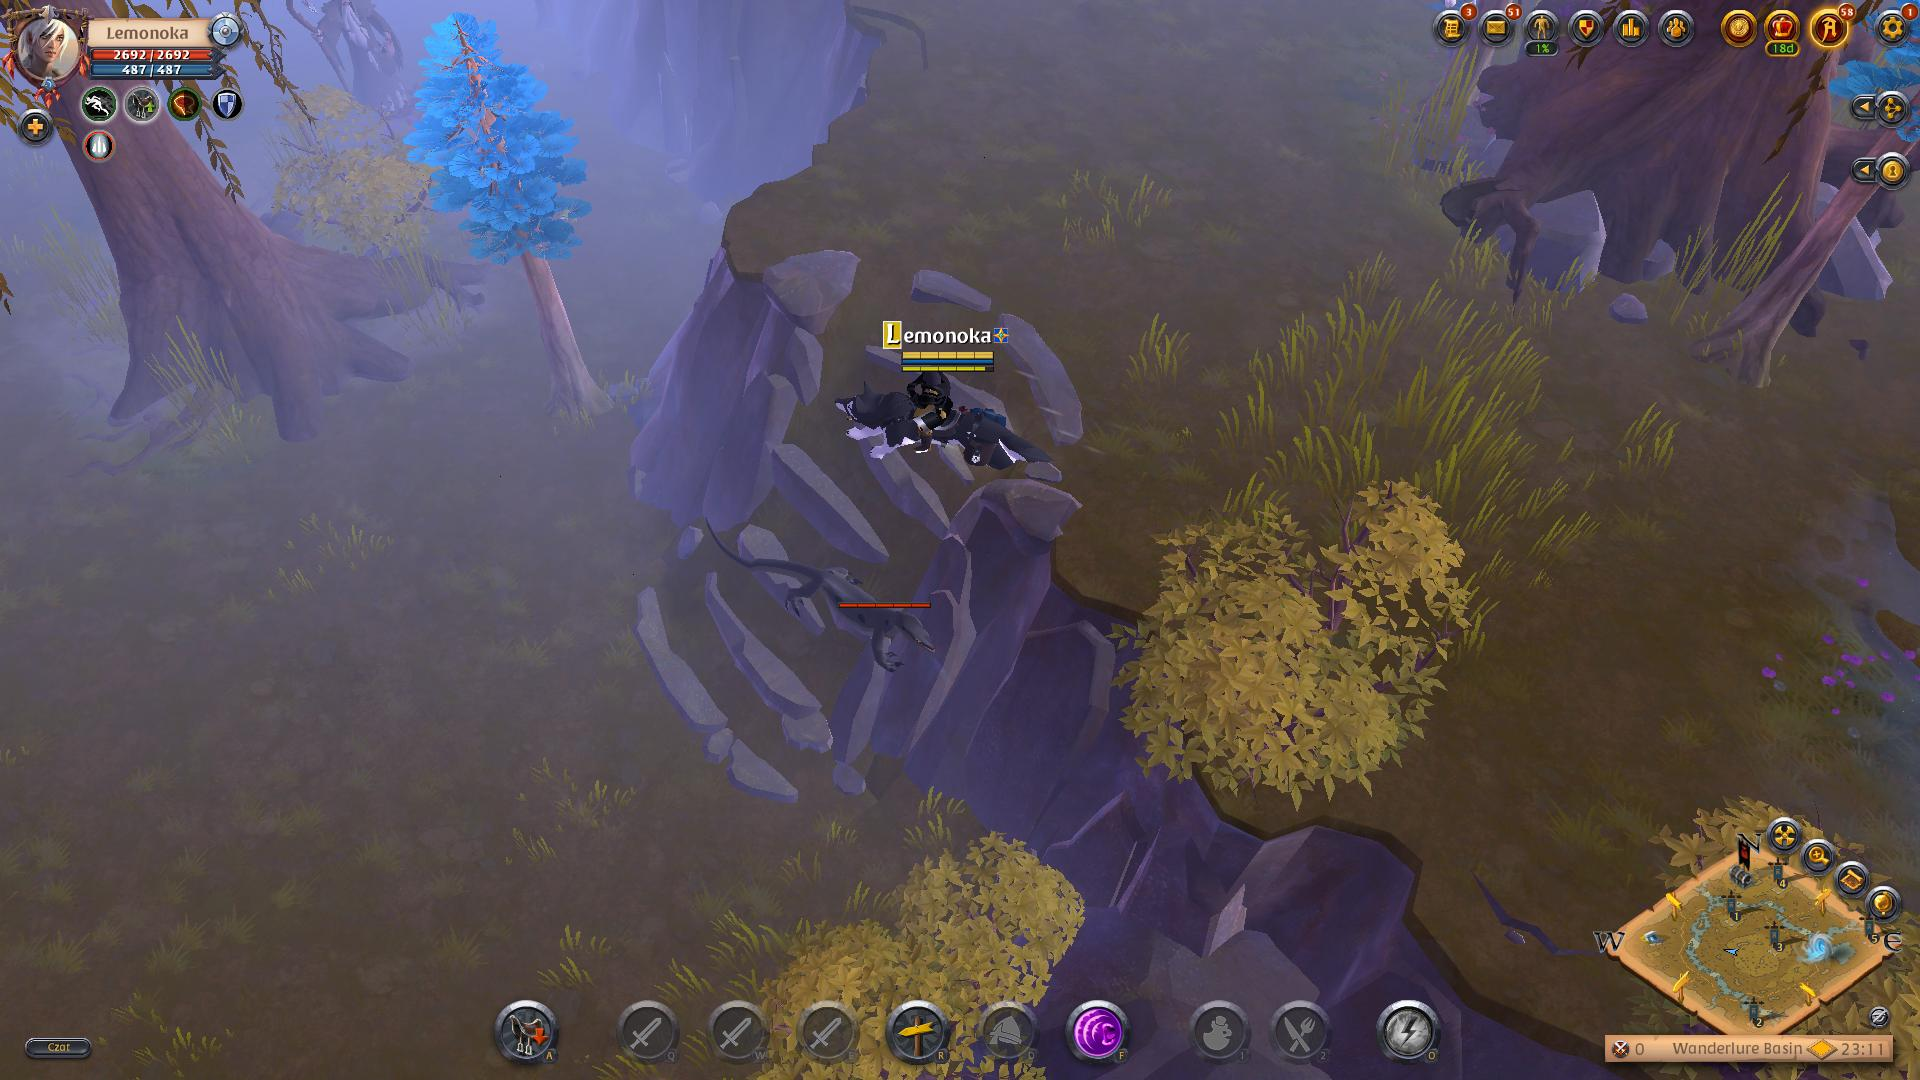wood tier 4: (405, 7, 595, 276)
